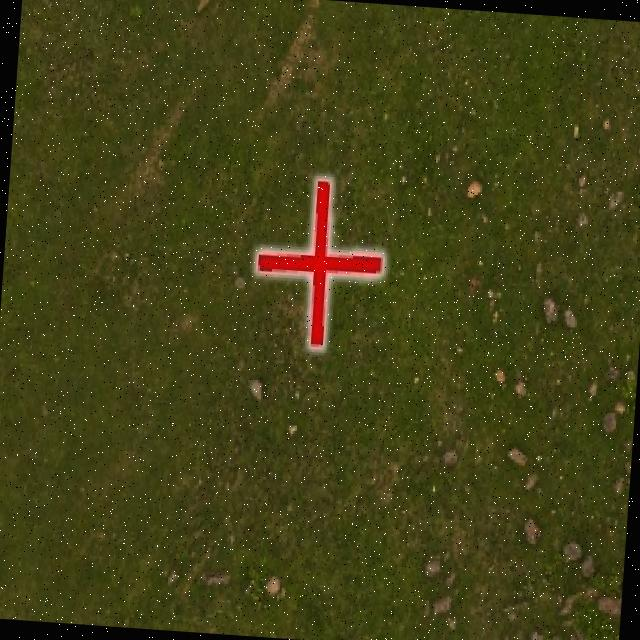x_marker: (252, 176, 386, 350)
